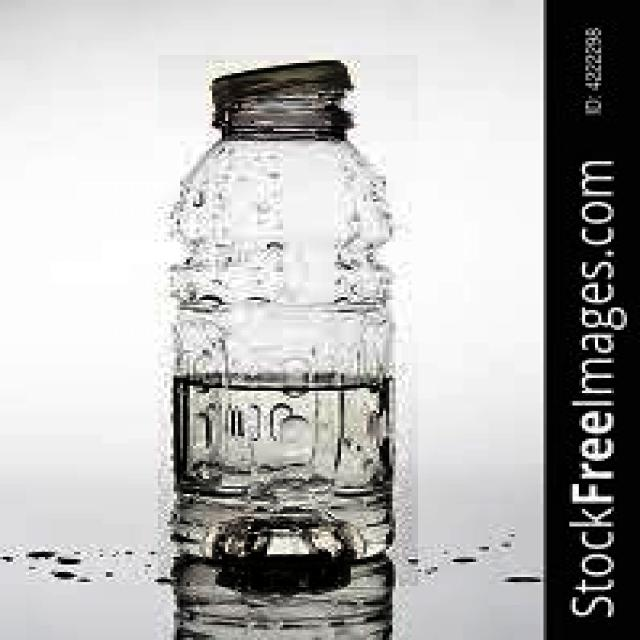half-bottle: (158, 55, 418, 586)
